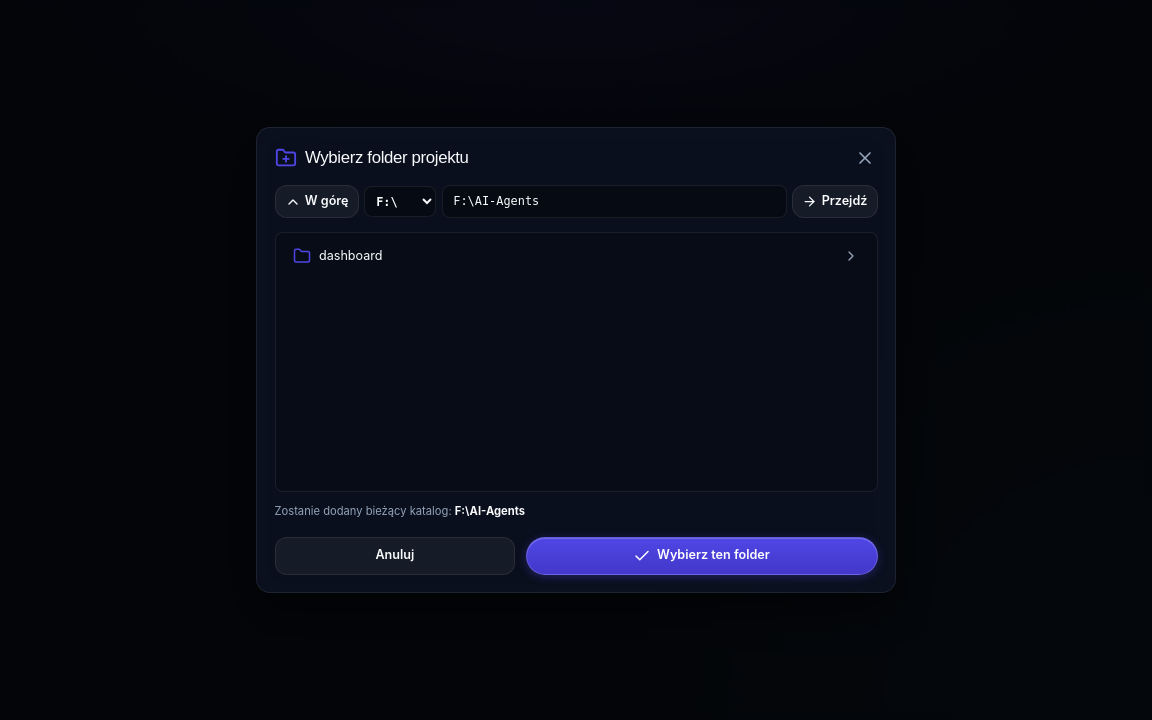
Test case: FolderPickerDialog Component › allows switching drive using the drive selector dropdown
Check: the text "dashboard" is shown, box top-left (319, 247), bottom-right (383, 266)
Select "D:\\" in the dropdown named "Wybierz dysk": (400, 202) top-left (364, 186), bottom-right (436, 217)
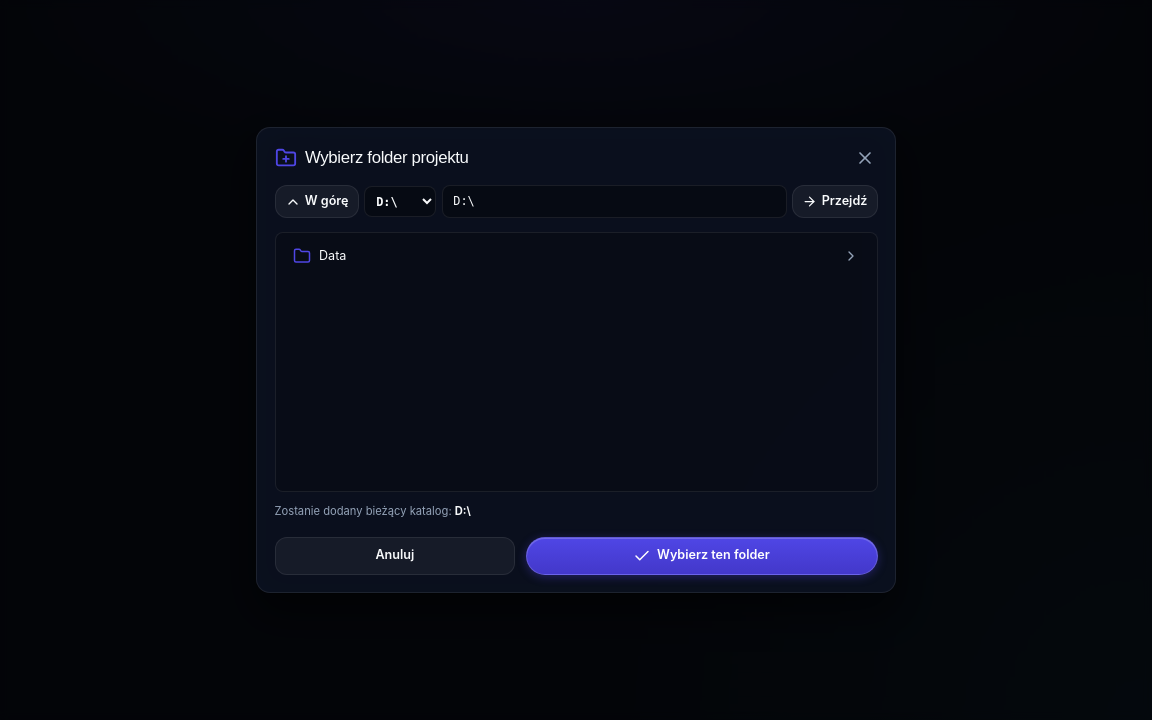
Check: the text "Data" is shown, box top-left (319, 247), bottom-right (346, 266)
